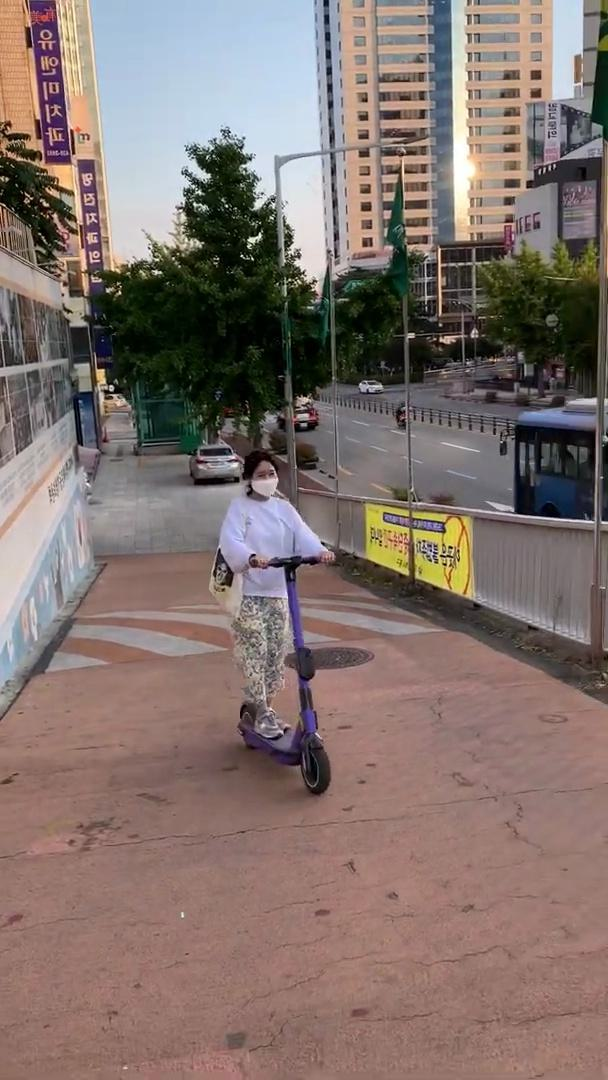nonhelmet: (211, 450, 349, 798)
